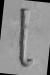D156: (1, 0, 50, 74)
